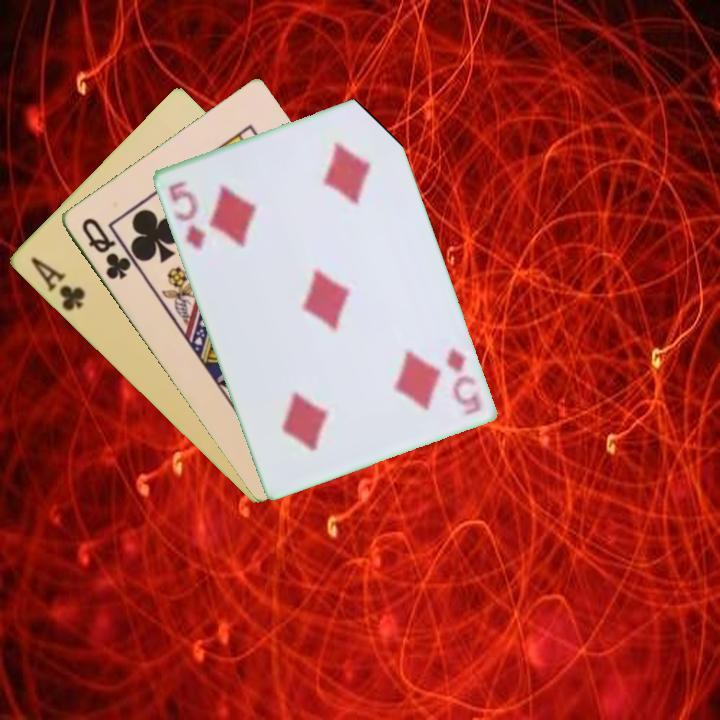5d: (164, 177, 209, 253), (442, 344, 484, 418)
Ac: (26, 253, 88, 314)
Qc: (77, 214, 134, 283)
